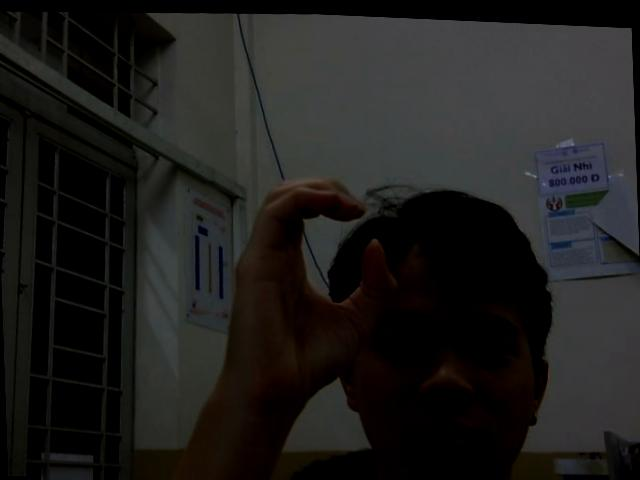C: (222, 168, 402, 415)
